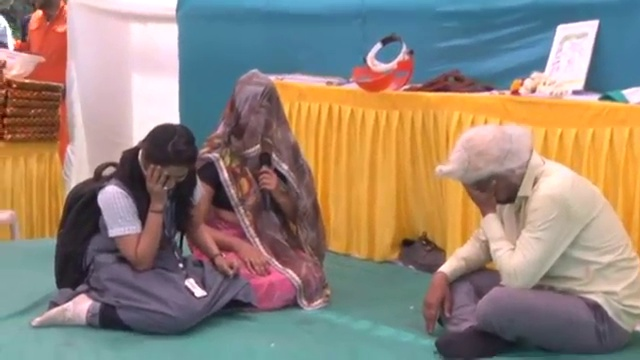helmet: (0, 47, 46, 83)
helmet_off: (449, 125, 533, 212), (129, 120, 200, 197), (224, 72, 282, 148), (38, 0, 65, 22)
person: (420, 124, 640, 360), (26, 117, 236, 333), (191, 74, 325, 309), (15, 0, 69, 83)
